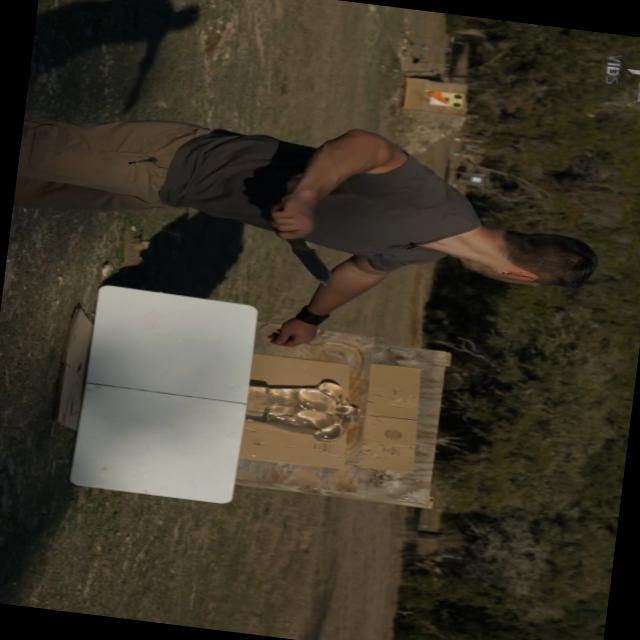knife: (257, 200, 349, 293)
